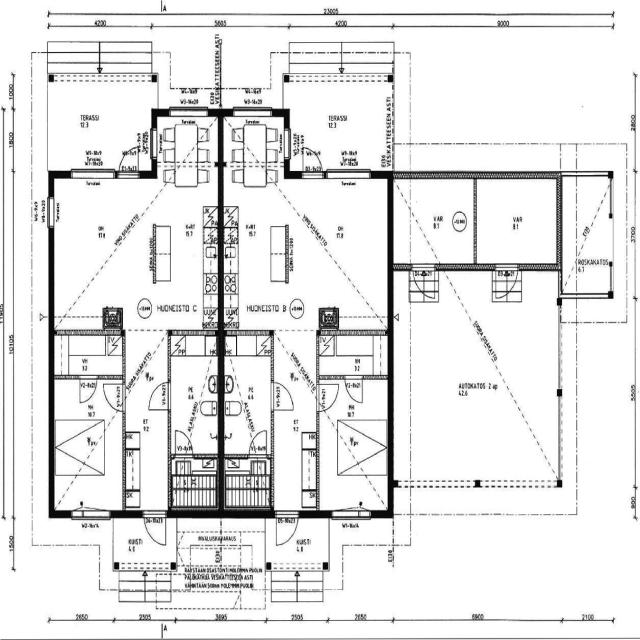door: (274, 508, 300, 548), (142, 509, 168, 548), (270, 378, 296, 412), (300, 144, 325, 178), (117, 144, 141, 178), (147, 379, 172, 411), (102, 378, 124, 412), (411, 265, 434, 296), (318, 381, 341, 411), (494, 272, 518, 300), (172, 427, 194, 456), (77, 374, 98, 404), (248, 427, 269, 457), (344, 374, 364, 404), (283, 128, 291, 159)
window: (66, 164, 118, 182), (553, 394, 564, 478), (324, 166, 372, 182), (69, 505, 112, 522), (328, 506, 372, 522), (167, 105, 209, 120), (231, 105, 273, 119), (608, 215, 617, 262), (46, 194, 57, 230), (608, 176, 616, 217), (150, 126, 159, 160), (607, 262, 616, 293), (283, 128, 291, 159)
zone: (220, 176, 387, 330), (52, 175, 219, 329), (320, 378, 390, 510), (54, 380, 122, 510), (475, 177, 560, 266), (395, 176, 477, 266), (168, 333, 220, 456), (224, 335, 274, 456), (56, 332, 124, 377), (320, 331, 386, 377), (170, 455, 219, 509), (223, 456, 272, 508)
